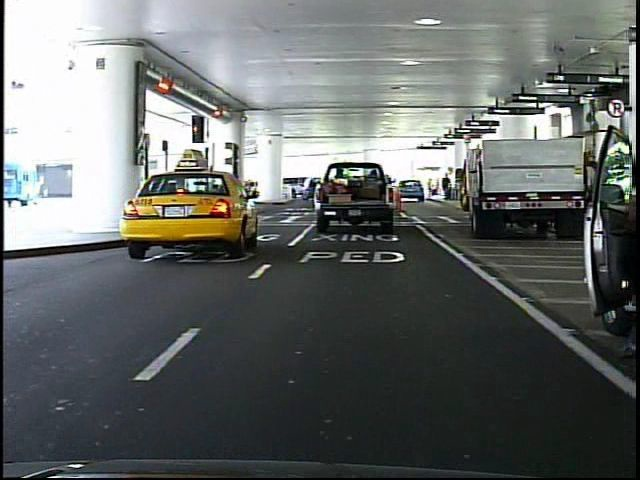person: (200, 167, 220, 214)
